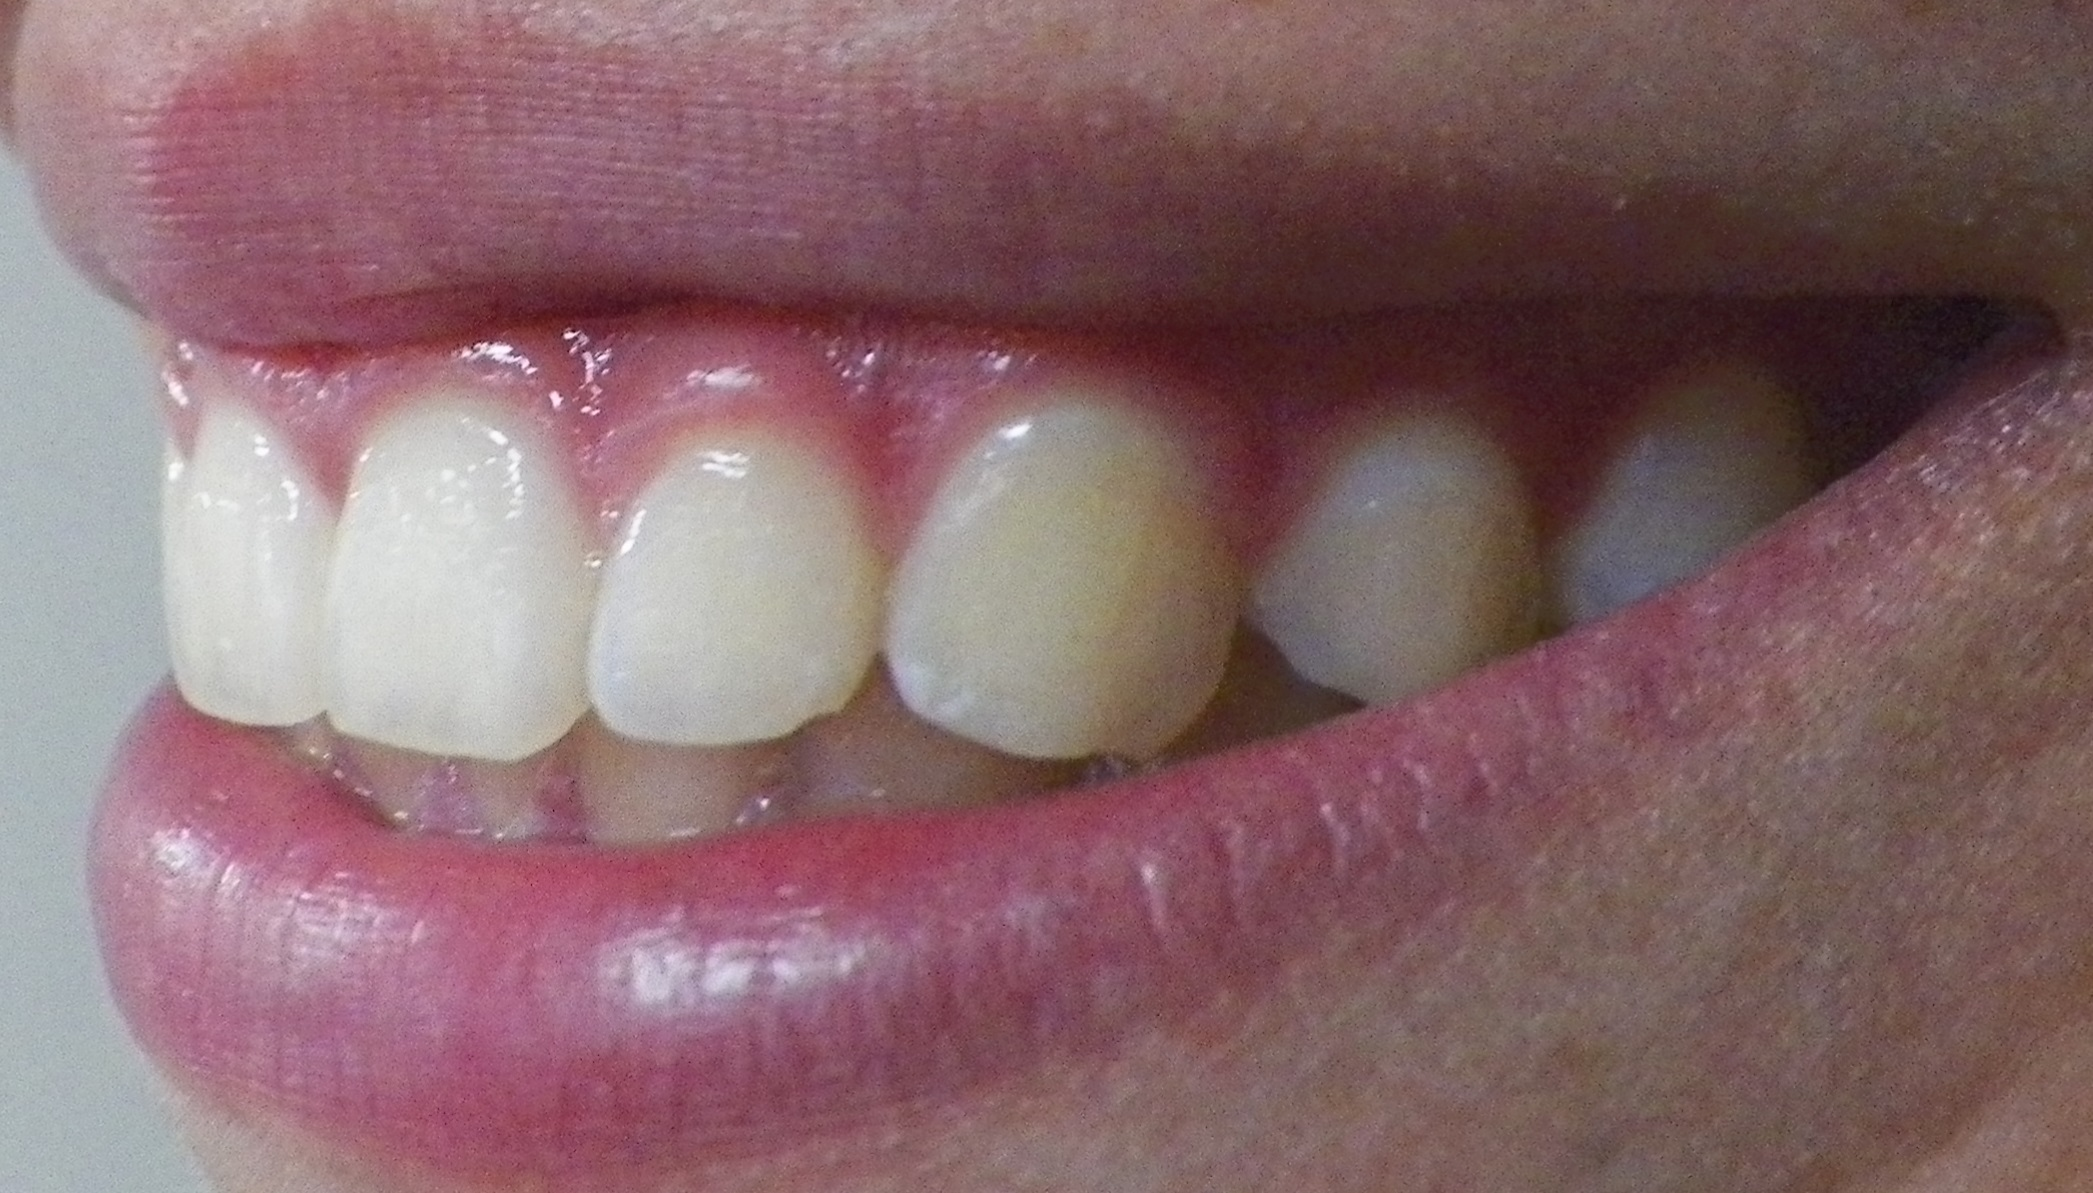boca: (139, 364, 1803, 819)
